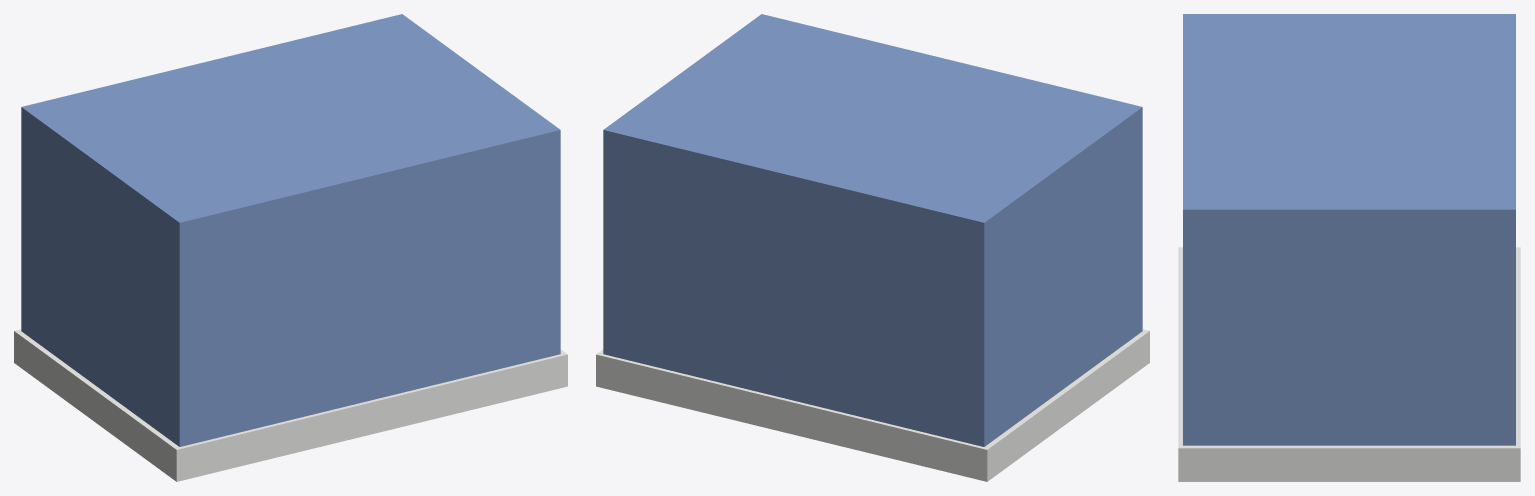
Rendered from luffy_calcao.glb.
3 renders of one model, left to right at view 1: azimuth 30°, elevation 25°; view 2: azimuth 150°, elevation 25°; view 3: azimuth 270°, elevation 25°, orthographic. The views are drawn at different scales.
Visible parts, largest first — view 1: LuffyCalcao; view 2: LuffyCalcao; view 3: LuffyCalcao.
Part boxes in pixels (x1,y1,x2,y2): LuffyCalcao: [14, 14, 567, 481]; LuffyCalcao: [596, 14, 1149, 481]; LuffyCalcao: [1178, 14, 1520, 481].
Bounding box in the file's own units: 0.575 × 0.36 × 0.414.
